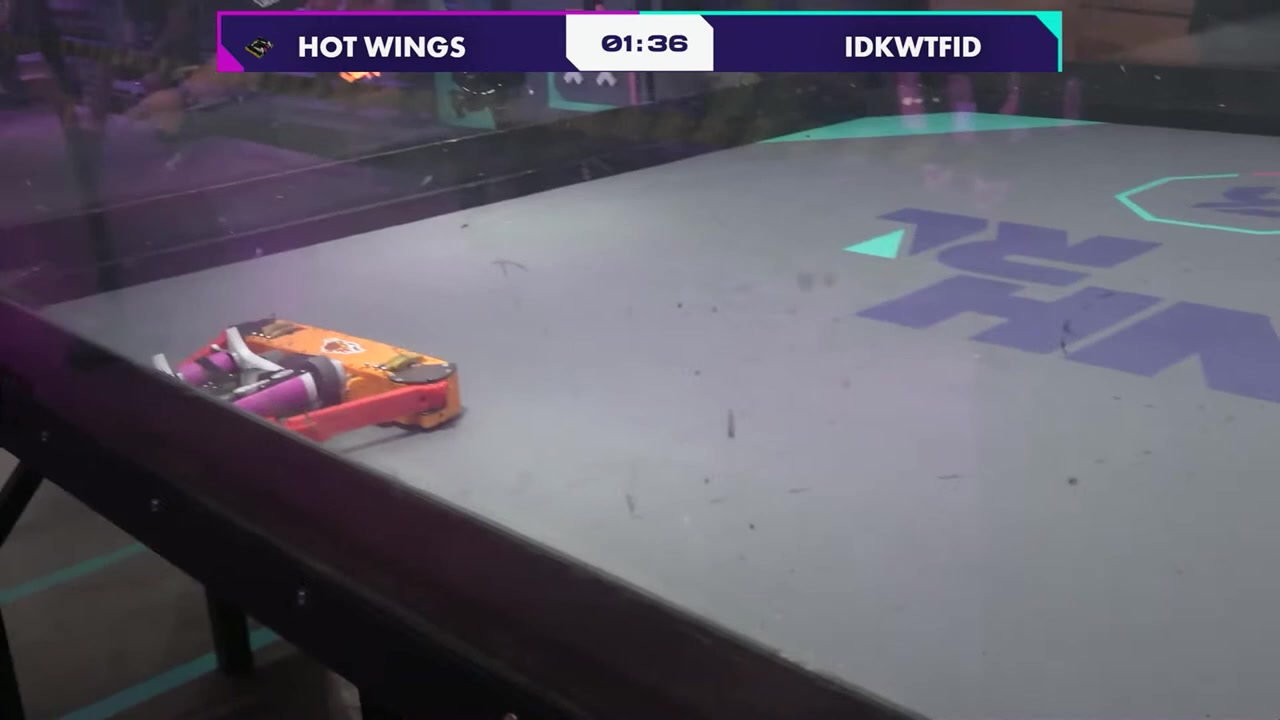combatbot: (236, 316, 459, 427), (150, 328, 345, 409)
